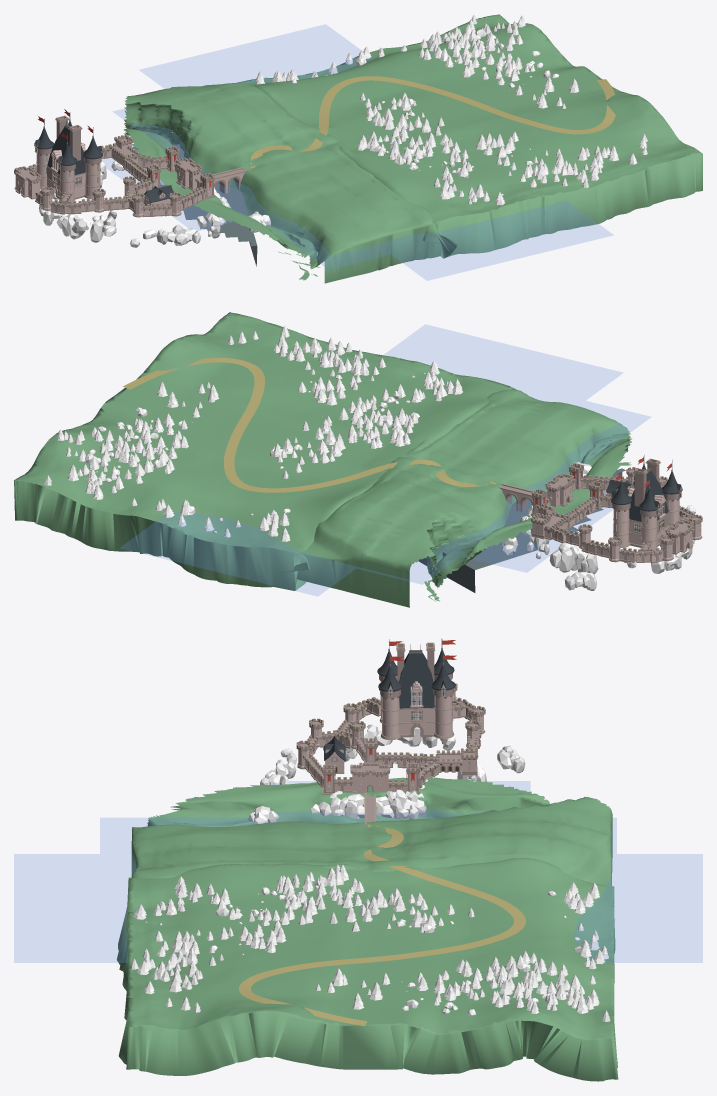
Rendered from level.glb.
3 views of the same model, one above another, from view 1: azimuth 30°, elevation 25°; view 2: azimuth 150°, elevation 25°; view 3: azimuth 270°, elevation 25° (orthographic). The views are drawn at different scales.
Visible parts, largest first — view 1: BACKDROP, CHUNK_-009_-005, CHUNK_-007_-005, CHUNK_-006_-005, CHUNK_-008_-005, CHUNK_-005_-005, CHUNK_-014_-002, CHUNK_-005_-004, CHUNK_-015_-001, CHUNK_-006_-001, CHUNK_-015_-002, CHUNK_-005_+000 (+34 smaller); view 2: BACKDROP, CHUNK_-007_+001, CHUNK_-006_+001, CHUNK_-008_+001, CHUNK_-015_-001, CHUNK_-014_-001, CHUNK_-009_+001, CHUNK_-005_+001, CHUNK_-009_+002, CHUNK_-005_+002, CHUNK_-008_-001, CHUNK_-005_-003 (+37 smaller); view 3: BACKDROP, CHUNK_-014_-001, CHUNK_-004_-004, CHUNK_-004_-003, CHUNK_-004_-002, CHUNK_-012_-002, CHUNK_-005_+000, CHUNK_-004_-001, CHUNK_-004_+001, CHUNK_-009_+000, CHUNK_-005_+001, CHUNK_-009_+001 (+41 smaller).
Part boxes in pixels (x1,y1,x2,y2): BACKDROP: [102, 24, 612, 283]; CHUNK_-009_-005: [418, 184, 494, 258]; CHUNK_-007_-005: [521, 163, 597, 234]; CHUNK_-006_-005: [575, 145, 648, 223]; CHUNK_-008_-005: [468, 178, 544, 249]; CHUNK_-005_-005: [623, 143, 700, 206]; CHUNK_-014_-002: [68, 127, 135, 242]; CHUNK_-005_-004: [595, 105, 677, 152]; CHUNK_-015_-001: [14, 116, 62, 225]; CHUNK_-006_-001: [452, 56, 533, 105]; CHUNK_-015_-002: [41, 133, 86, 239]; CHUNK_-005_+000: [475, 15, 556, 61]; BACKDROP: [120, 324, 650, 607]; CHUNK_-007_+001: [126, 475, 218, 567]; CHUNK_-006_+001: [73, 449, 161, 551]; CHUNK_-008_+001: [183, 490, 272, 573]; CHUNK_-015_-001: [638, 466, 694, 573]; CHUNK_-014_-001: [580, 458, 669, 573]; CHUNK_-009_+001: [240, 503, 327, 590]; CHUNK_-005_+001: [19, 441, 101, 498]; CHUNK_-009_+002: [235, 546, 308, 590]; CHUNK_-005_+002: [16, 479, 76, 537]; CHUNK_-008_-001: [250, 434, 344, 480]; CHUNK_-005_-003: [146, 341, 240, 389]; BACKDROP: [14, 777, 702, 962]; CHUNK_-014_-001: [394, 642, 468, 750]; CHUNK_-004_-004: [177, 1011, 256, 1075]; CHUNK_-004_-003: [248, 1010, 326, 1066]; CHUNK_-004_-002: [320, 1020, 399, 1069]; CHUNK_-012_-002: [323, 762, 398, 818]; CHUNK_-005_+000: [465, 979, 547, 1069]; CHUNK_-004_-001: [390, 1022, 471, 1074]; CHUNK_-004_+001: [534, 1020, 615, 1081]; CHUNK_-009_+000: [463, 863, 543, 908]; CHUNK_-005_+001: [534, 981, 614, 1078]; CHUNK_-009_+001: [537, 865, 614, 926].
Size of the model in its own units: 390 by 85.2 by 345.
